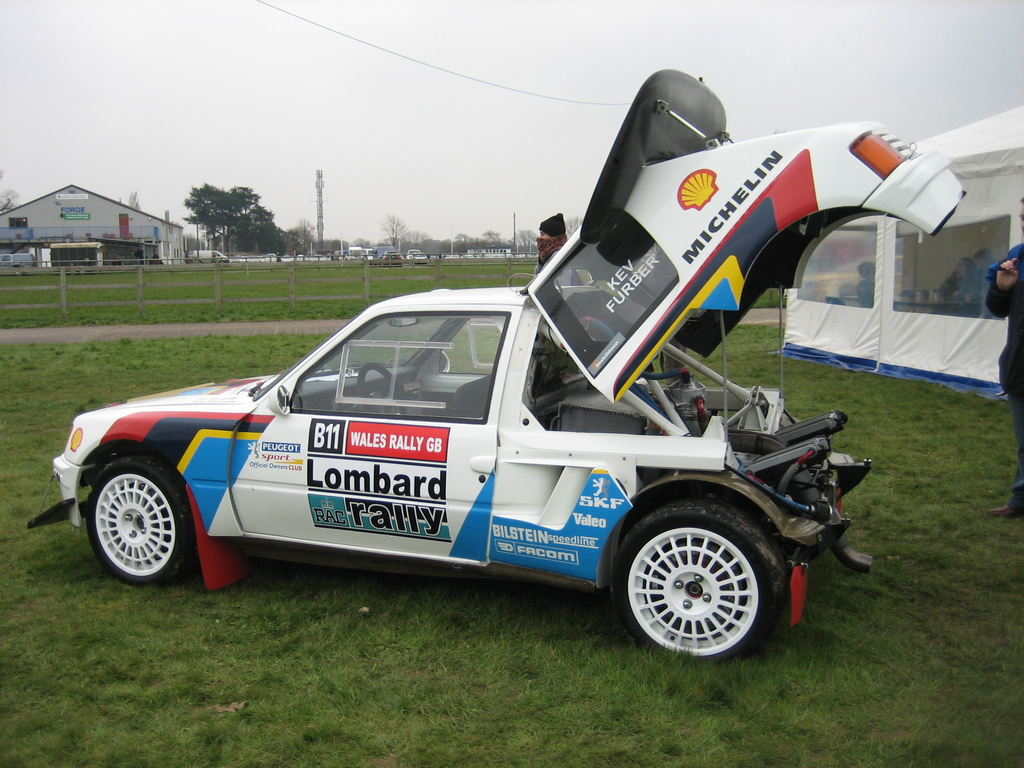cars: (94, 130, 927, 649), (380, 245, 400, 265), (411, 249, 427, 262)
